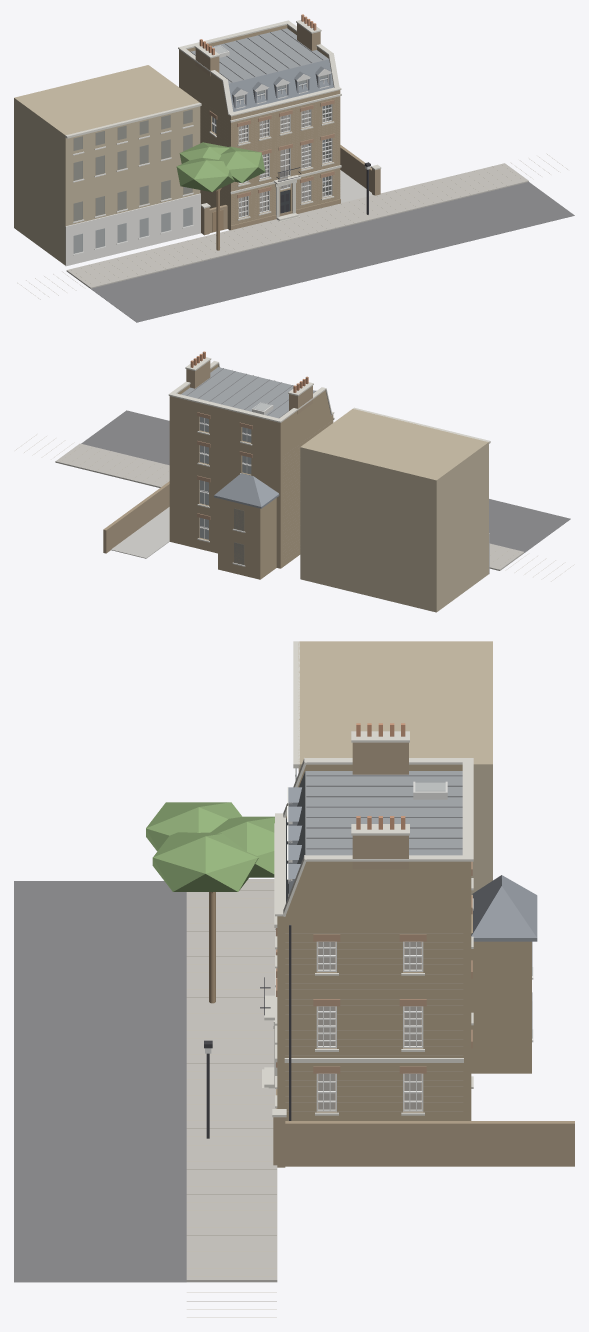
File: clay-georgian-terrace-house-clay-v001.glb
The picture shows the model from 3 angles, top to bottom: view 1: azimuth 30°, elevation 25°; view 2: azimuth 150°, elevation 25°; view 3: azimuth 270°, elevation 25°; orthographic projection. The views are drawn at different scales.
Parts seen in each view (by area): view 1: CLAY_NEIGHBOUR, CLAY_ASPHALT, CLAY_WALL, CLAY_PAVING, CLAY_GLASS, CLAY_STUCCO, CLAY_STONE, CLAY_LEAD, CLAY_PLANTING, CLAY_TRIM, CLAY_BRICK, CLAY_ROOF (+7 smaller); view 2: CLAY_NEIGHBOUR, CLAY_WALL, CLAY_ASPHALT, CLAY_PAVING, CLAY_LEAD, CLAY_BRICK, CLAY_STONE, CLAY_CONCRETE, CLAY_GLASS, CLAY_ROOF, CLAY_TRIM, CLAY_JOINT (+1 smaller); view 3: CLAY_ASPHALT, CLAY_WALL, CLAY_PAVING, CLAY_NEIGHBOUR, CLAY_BRICK, CLAY_LEAD, CLAY_PLANTING, CLAY_STONE, CLAY_JOINT, CLAY_ROOF, CLAY_GLASS, CLAY_FLOOR (+3 smaller).
Part boxes in pixels (x1=…): CLAY_NEIGHBOUR: x1=14, y1=65, x2=200, y2=265; CLAY_ASPHALT: x1=91, y1=182, x2=574, y2=322; CLAY_WALL: x1=179, y1=25, x2=340, y2=230; CLAY_PAVING: x1=66, y1=163, x2=528, y2=288; CLAY_GLASS: x1=73, y1=45, x2=330, y2=253; CLAY_STUCCO: x1=65, y1=193, x2=200, y2=266; CLAY_STONE: x1=65, y1=20, x2=381, y2=221; CLAY_LEAD: x1=190, y1=28, x2=328, y2=83; CLAY_PLANTING: x1=176, y1=142, x2=265, y2=191; CLAY_TRIM: x1=211, y1=69, x2=332, y2=218; CLAY_BRICK: x1=195, y1=23, x2=380, y2=235; CLAY_ROOF: x1=228, y1=59, x2=333, y2=111; CLAY_NEIGHBOUR: x1=300, y1=409, x2=488, y2=612; CLAY_WALL: x1=169, y1=364, x2=333, y2=579; CLAY_ASPHALT: x1=81, y1=410, x2=570, y2=552; CLAY_PAVING: x1=55, y1=443, x2=524, y2=570; CLAY_LEAD: x1=181, y1=367, x2=315, y2=418; CLAY_BRICK: x1=103, y1=360, x2=312, y2=553; CLAY_STONE: x1=168, y1=357, x2=490, y2=542; CLAY_CONCRETE: x1=111, y1=507, x2=169, y2=558; CLAY_GLASS: x1=199, y1=402, x2=271, y2=564; CLAY_ROOF: x1=214, y1=473, x2=279, y2=508; CLAY_TRIM: x1=199, y1=370, x2=296, y2=566; CLAY_JOINT: x1=15, y1=434, x2=574, y2=581; CLAY_ASPHALT: x1=14, y1=881, x2=186, y2=1282; CLAY_WALL: x1=277, y1=764, x2=531, y2=1120; CLAY_PAVING: x1=186, y1=879, x2=277, y2=1282; CLAY_NEIGHBOUR: x1=298, y1=641, x2=492, y2=894; CLAY_BRICK: x1=273, y1=742, x2=574, y2=1167; CLAY_LEAD: x1=305, y1=771, x2=462, y2=855; CLAY_PLANTING: x1=146, y1=802, x2=274, y2=891; CLAY_STONE: x1=262, y1=641, x2=473, y2=1117; CLAY_JOINT: x1=187, y1=882, x2=462, y2=1317; CLAY_ROOF: x1=286, y1=771, x2=537, y2=941; CLAY_GLASS: x1=295, y1=768, x2=532, y2=1109; CLAY_FLOOR: x1=318, y1=942, x2=421, y2=1109.
Size of the model in its own units: 53.12 by 15.92 by 26.
